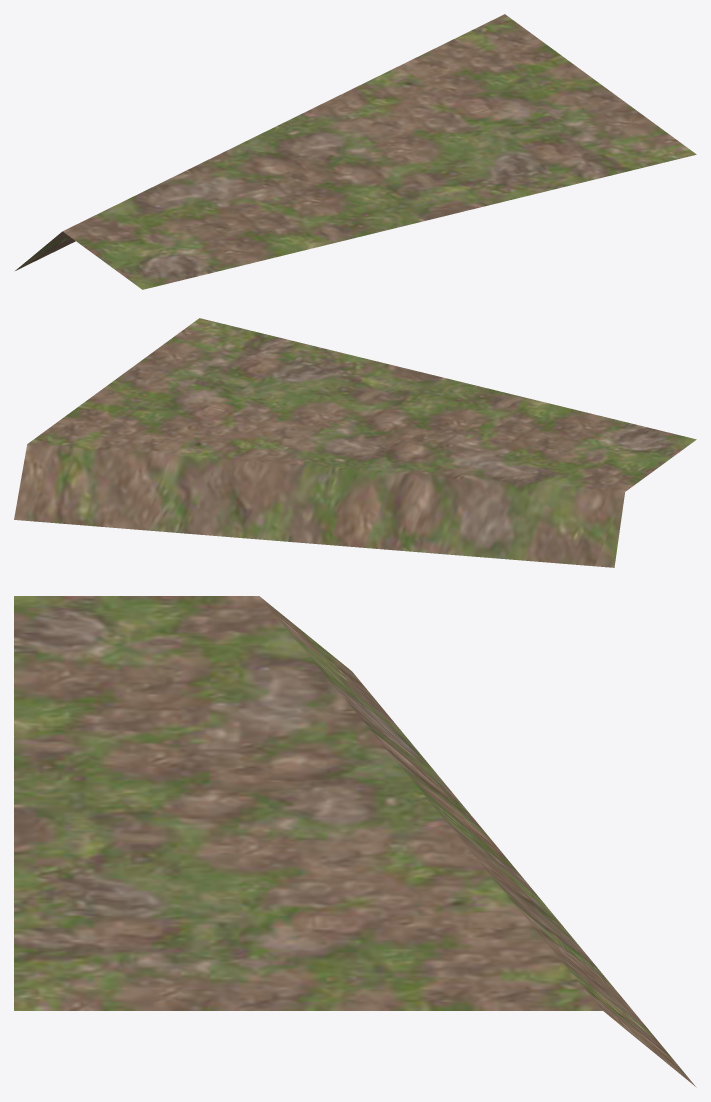
File: ground2a.FBX
3 renders of one model, top to bottom at view 1: azimuth 30°, elevation 25°; view 2: azimuth 150°, elevation 25°; view 3: azimuth 270°, elevation 25°, orthographic. The views are drawn at different scales.
Visible parts, largest first — view 1: ground2a; view 2: ground2a; view 3: ground2a.
Part boxes in pixels (bbox=[...]): ground2a: bbox=[15, 14, 696, 289]; ground2a: bbox=[14, 318, 696, 567]; ground2a: bbox=[14, 596, 696, 1087].
Bounding box in the file's own units: 207 × 20 × 139.
